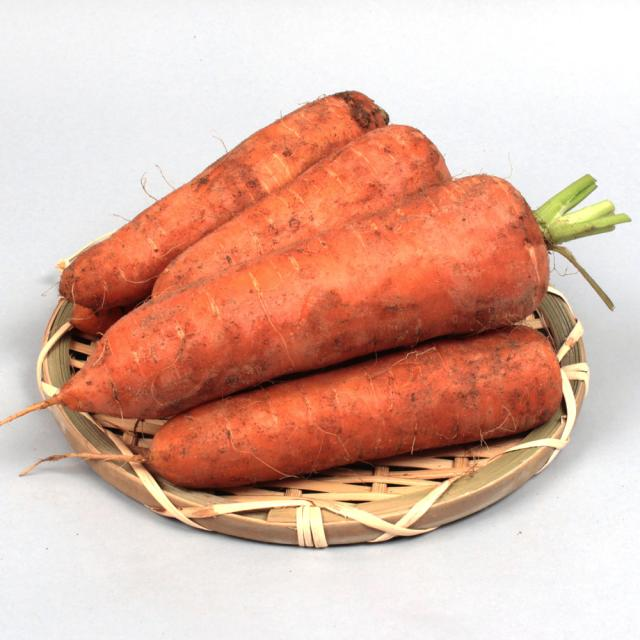carrot: (1, 173, 624, 422), (47, 326, 568, 492), (58, 87, 394, 314), (148, 124, 455, 304)
